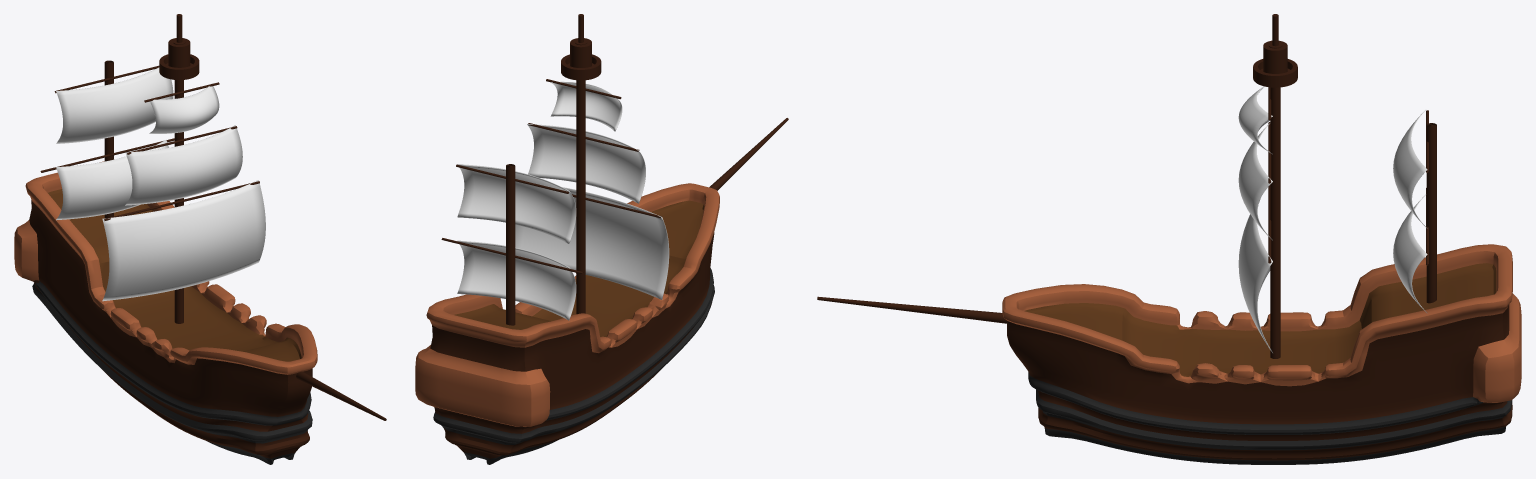
File: EnemyShip3.fbx
The picture shows the model from 3 angles, left to right: view 1: azimuth 30°, elevation 25°; view 2: azimuth 150°, elevation 25°; view 3: azimuth 270°, elevation 25°; orthographic projection. The views are drawn at different scales.
Visible parts, largest first — view 1: Cube, Plane, Plane.001, Plane.002, Plane.003, Plane.004, Cylinder, Cylinder.003, Cylinder.001, Cylinder.002; view 2: Cube, Plane, Plane.001, Plane.002, Plane.003, Cylinder, Plane.004, Cylinder.001, Cylinder.003, Cylinder.005; view 3: Cube, Cylinder, Plane, Cylinder.001, Plane.002, Plane.003, Plane.001, Cylinder.003, Plane.004.
Boxes of the visible parts, box(x1,y1,x2,y2) form: Cube: box(14, 161, 317, 464); Plane: box(102, 180, 265, 301); Plane.001: box(125, 125, 242, 205); Plane.002: box(56, 67, 173, 143); Plane.003: box(56, 140, 168, 220); Plane.004: box(149, 86, 219, 133); Cylinder: box(159, 14, 199, 323); Cylinder.003: box(296, 371, 386, 420); Cylinder.001: box(104, 60, 113, 218); Cylinder.002: box(104, 181, 259, 220); Cube: box(415, 183, 719, 464); Plane: box(515, 187, 669, 299); Plane.001: box(527, 124, 645, 203); Plane.002: box(457, 164, 576, 243); Plane.003: box(457, 240, 576, 320); Cylinder: box(561, 14, 601, 314); Plane.004: box(550, 81, 622, 131); Cylinder.001: box(506, 164, 515, 325); Cylinder.003: box(709, 118, 788, 190); Cylinder.005: box(441, 238, 583, 273); Cube: box(1002, 244, 1521, 464); Cylinder: box(1253, 14, 1297, 358); Plane: box(1238, 199, 1272, 352); Cylinder.001: box(1426, 123, 1436, 303); Plane.002: box(1393, 110, 1427, 228); Plane.003: box(1393, 194, 1427, 313); Plane.001: box(1238, 123, 1272, 240); Cylinder.003: box(817, 296, 1007, 323); Plane.004: box(1238, 86, 1272, 154).
Size of the model in its own units: 1743 by 4228 by 6081.
